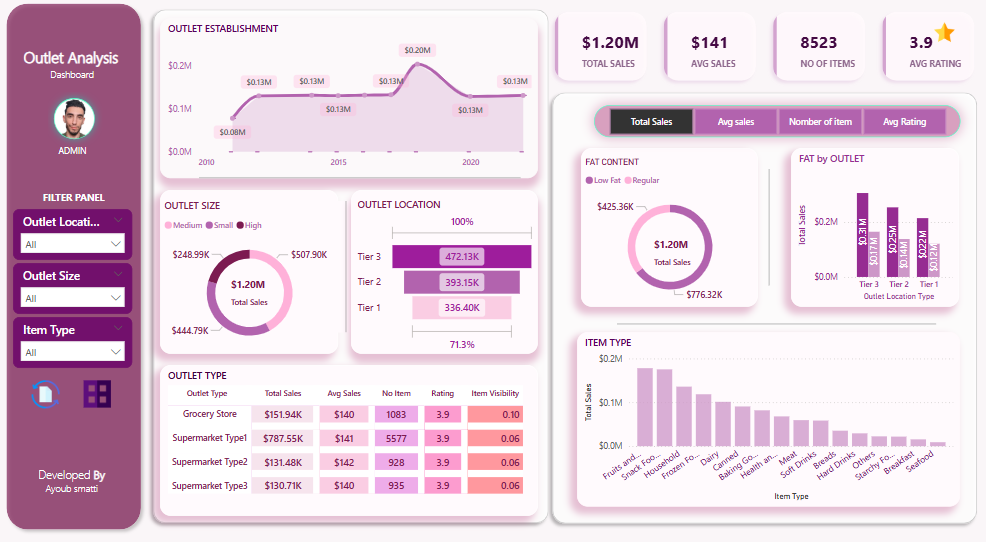

This screenshot's page, from the dashboard's own definition file:
{"tool":"powerbi","page":{"name":"HOME","canvas":[1400,800],"ordinal":0},"visuals":[{"type":"shape","box":[12.5,3.8,205,750],"z":0},{"type":"textbox","box":[40,67.5,150,42.5],"z":1000},{"type":"textbox","box":[31,98,164,35],"z":2000},{"type":"cardVisual","fields":{"Data":["Data.Total Sales","Data.Avg sales","Data.Nomber of item","Data.Avg Rating"]},"box":[772.5,12.5,608.8,120],"z":3000},{"type":"shape","box":[772.5,127.5,608.8,617.5],"z":4000},{"type":"donutChart","title":"FAT CONTENT","fields":{"Y":["FACT_Sales.Total Sales"],"Category":["Data.Item Fat Content"]},"box":[821.4,214.3,245.7,221.4],"z":5000},{"type":"slicer","fields":{"Values":["Metrics.Metrics"]},"box":[838.8,153.8,510,45],"z":6000},{"type":"cardVisual","fields":{"Data":["Data.Total Sales"]},"box":[897.1,314.3,114.3,71.4],"z":7000},{"type":"clusteredColumnChart","title":"FAT by OUTLET","fields":{"Y":["FACT_Sales.Total Sales"],"Category":["DIM_Outlet.Outlet Location Type"],"Series":["DIM_Item.Item Fat Content"]},"box":[1112.9,214.3,234.3,221.4],"z":8000},{"type":"shape","box":[871.1,400,444.4,116.7],"z":9000},{"type":"shape","box":[1066.7,243.3,31.1,162.2],"z":10000},{"type":"shape","box":[217.5,12.5,567.5,732.5],"z":11000},{"type":"lineChart","title":"OUTLET ESTABLISHMENT","fields":{"Y":["Data.Total Sales"],"Category":["DIM_Outlet.Outlet Establishment Year"]},"box":[235,33.8,526.2,222.5],"z":12000},{"type":"shape","box":[288.8,208.8,447.5,93.8],"z":13000},{"type":"donutChart","title":"OUTLET SIZE","fields":{"Y":["Data.Total Sales"],"Category":["DIM_Outlet.Outlet Size"]},"box":[235,272.5,247.5,227.5],"z":14000},{"type":"cardVisual","fields":{"Data":["Data.Total Sales"]},"box":[308.8,370,115,71.2],"z":15000},{"type":"shape","box":[481.2,287.5,25,182.5],"z":16000},{"type":"funnel","title":"OUTLET LOCATION","fields":{"Y":["Sum(Data.Sales)"],"Category":["DIM_Outlet.Outlet Type"]},"box":[501.2,272.5,260,227.5],"z":17000},{"type":"pivotTable","title":"OUTLET TYPE","fields":{"Values":["Data.Total Sales","Data.Avg sales","Data.Nomber of item","Data.Avg Rating","Avg(Data.Item Visibility)"],"Rows":["DIM_Outlet.Outlet Type"]},"box":[235.7,515.7,525.7,210],"z":18000},{"type":"slicer","fields":{"Values":["DIM_Outlet.Outlet Location Type"]},"box":[31.2,298.8,166.2,71.2],"z":19000},{"type":"slicer","fields":{"Values":["DIM_Outlet.Outlet Size"]},"box":[31.2,373.8,166.2,71.2],"z":20000},{"type":"slicer","fields":{"Values":["DIM_Outlet.Outlet Type"]},"box":[31.2,448.8,166.2,71.2],"z":21000},{"type":"textbox","box":[26.2,652.5,171.2,56.2],"z":22000},{"type":"shape","box":[75.9,133.5,78.8,79.4],"z":23000},{"type":"image","box":[82.9,138.8,65.3,69.4],"z":24000},{"type":"columnChart","title":"ITEM TYPE","fields":{"Y":["FACT_Sales.Total Sales"],"Category":["DIM_Item.Item Type"],"Series":["DIM_Outlet.Outlet Size"]},"box":[815.7,470,532.9,242.9],"z":25000},{"type":"image","box":[1315.7,34.3,42.9,38.6],"z":26000},{"type":"textbox","box":[60,268.6,110,32.9],"z":27000},{"type":"image","box":[51.2,571.2,48.8,50],"z":28000},{"type":"image","box":[122.5,571.2,47.5,50],"z":29000},{"type":"card","fields":{"Values":["Data.Current User"]},"box":[44.2,214.2,140.8,54.2],"z":30000}]}

Visuals, with their boxes on the page's 1400x800 design canvas (x1, y1, x2, y2). These are canvas units, not pixel positions in the 986x542 screenshot, which may show the page scaled, cropped or inside an application window:
shape: (12, 4, 218, 754)
textbox: (40, 68, 190, 110)
textbox: (31, 98, 195, 133)
cardVisual - Data.Total Sales x Data.Avg sales: (772, 12, 1381, 132)
shape: (772, 128, 1381, 745)
"FAT CONTENT" donutChart: (821, 214, 1067, 436)
slicer - Metrics.Metrics: (839, 154, 1349, 199)
cardVisual - Data.Total Sales: (897, 314, 1011, 386)
"FAT by OUTLET" clusteredColumnChart: (1113, 214, 1347, 436)
shape: (871, 400, 1316, 517)
shape: (1067, 243, 1098, 406)
shape: (218, 12, 785, 745)
"OUTLET ESTABLISHMENT" lineChart: (235, 34, 761, 256)
shape: (289, 209, 736, 303)
"OUTLET SIZE" donutChart: (235, 272, 482, 500)
cardVisual - Data.Total Sales: (309, 370, 424, 441)
shape: (481, 288, 506, 470)
"OUTLET LOCATION" funnel: (501, 272, 761, 500)
"OUTLET TYPE" pivotTable: (236, 516, 761, 726)
slicer - DIM_Outlet.Outlet Location Type: (31, 299, 197, 370)
slicer - DIM_Outlet.Outlet Size: (31, 374, 197, 445)
slicer - DIM_Outlet.Outlet Type: (31, 449, 197, 520)
textbox: (26, 652, 197, 709)
shape: (76, 134, 155, 213)
image: (83, 139, 148, 208)
"ITEM TYPE" columnChart: (816, 470, 1349, 713)
image: (1316, 34, 1359, 73)
textbox: (60, 269, 170, 302)
image: (51, 571, 100, 621)
image: (122, 571, 170, 621)
card - Data.Current User: (44, 214, 185, 268)
